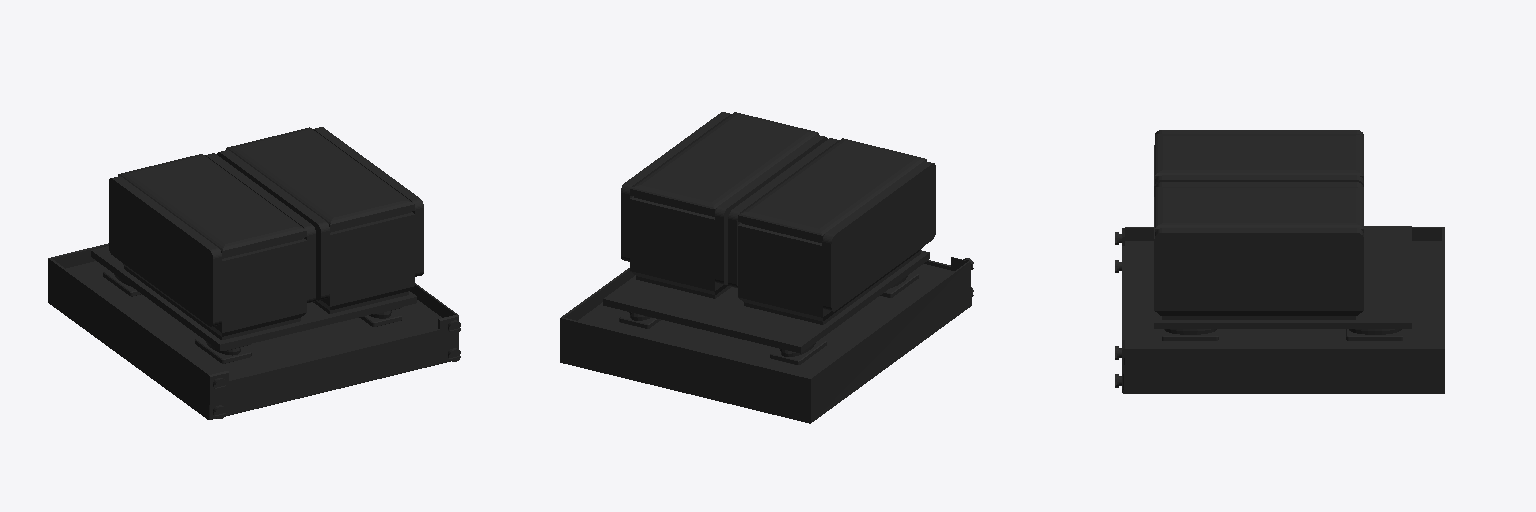
File: TeletypeDrives.obj
3 views of the same model, side by side, from view 1: azimuth 30°, elevation 25°; view 2: azimuth 150°, elevation 25°; view 3: azimuth 270°, elevation 25° (orthographic).
Parts seen in each view (by area): view 1: TeletypeDrives.obj; view 2: TeletypeDrives.obj; view 3: TeletypeDrives.obj.
Part boxes in pixels (x1,y1,x2,y2): TeletypeDrives.obj: (48, 127, 460, 419); TeletypeDrives.obj: (560, 112, 973, 423); TeletypeDrives.obj: (1115, 130, 1444, 393).
Bounding box in the file's own units: 6.82 × 3.99 × 7.79.